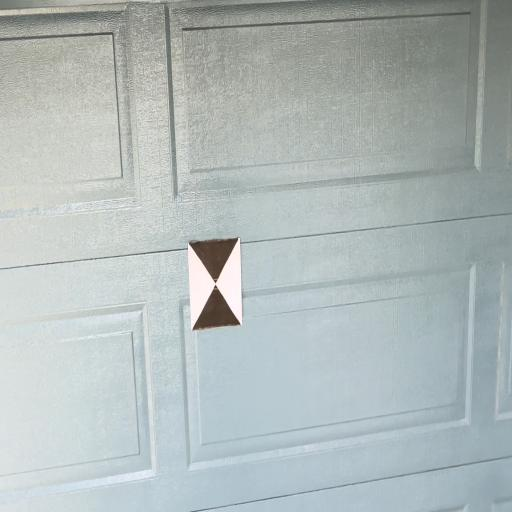target: (188, 238, 244, 330)
